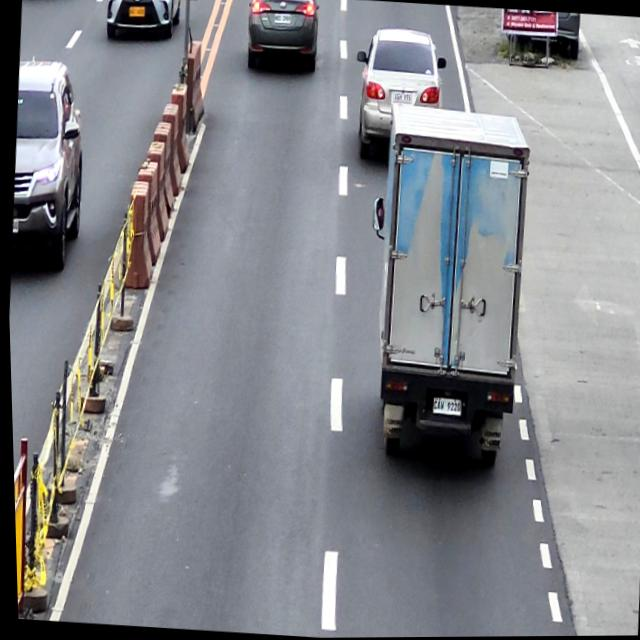Car: (349, 26, 450, 165), (242, 0, 322, 77)
License-Plate: (428, 396, 460, 418), (391, 91, 412, 104), (273, 12, 292, 24)
Truck: (351, 98, 539, 472)
